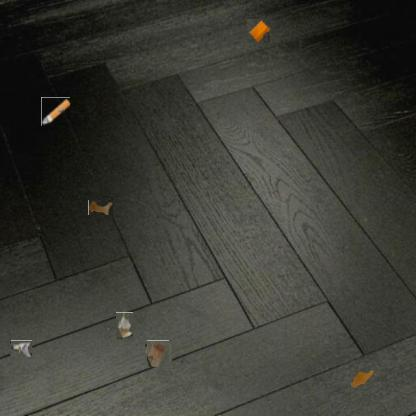dirty: (41, 97, 70, 126), (146, 341, 171, 366), (246, 19, 270, 43), (115, 312, 133, 339), (10, 340, 32, 357)
liquid: (352, 369, 376, 389), (88, 200, 113, 216)
